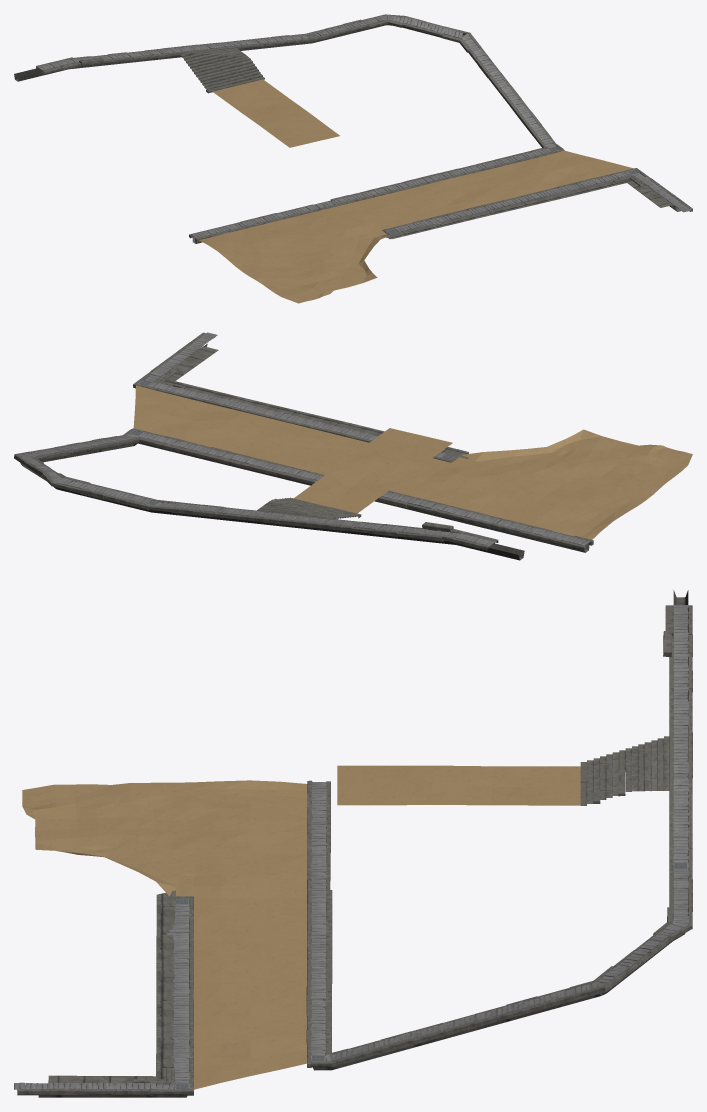
Rendered from SM_ENV_KNVLLG_ground_04.mo.fbx.
3 renders of one model, top to bottom at view 1: azimuth 30°, elevation 25°; view 2: azimuth 150°, elevation 25°; view 3: azimuth 270°, elevation 25°, orthographic. The views are drawn at different scales.
Visible parts, largest first — view 1: SM_ENV_KNVLLG_ground_04.mo; view 2: SM_ENV_KNVLLG_ground_04.mo; view 3: SM_ENV_KNVLLG_ground_04.mo.
Boxes of the visible parts, bbox=[...] form: SM_ENV_KNVLLG_ground_04.mo: bbox=[14, 14, 692, 303]; SM_ENV_KNVLLG_ground_04.mo: bbox=[14, 332, 692, 560]; SM_ENV_KNVLLG_ground_04.mo: bbox=[14, 590, 692, 1097].
Bounding box in the file's own units: 57.35 × 11.95 × 46.09.
